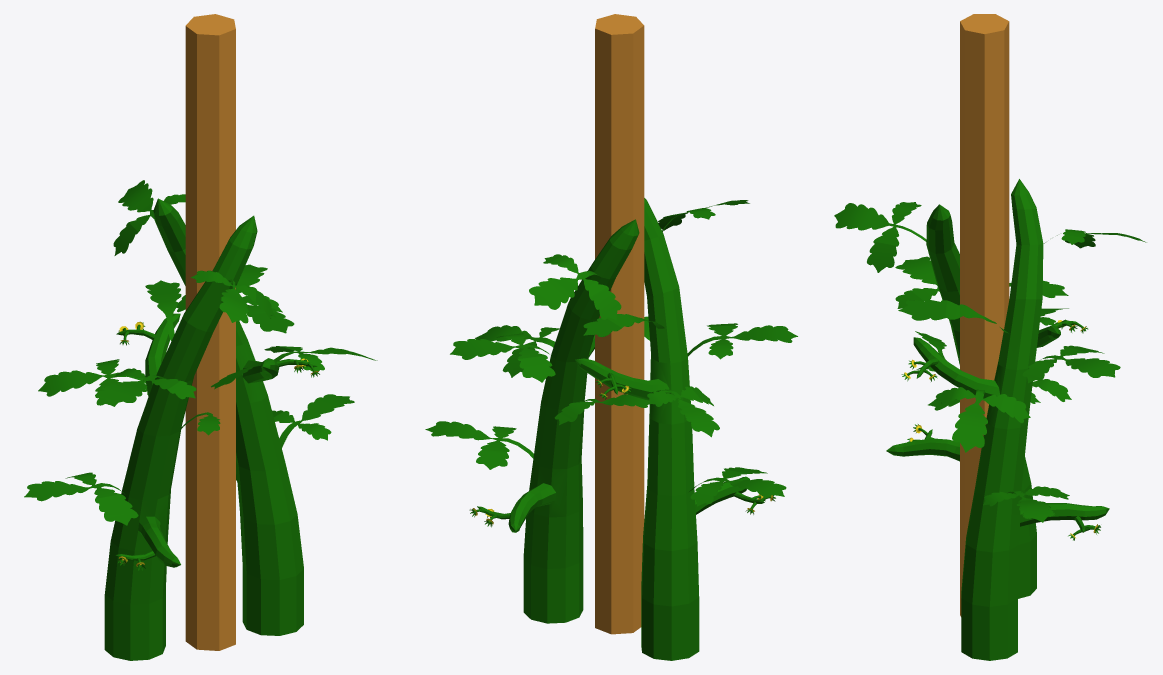
File: Teen_T.fbx
3 views of the same model, side by side, from view 1: azimuth 30°, elevation 25°; view 2: azimuth 150°, elevation 25°; view 3: azimuth 270°, elevation 25° (orthographic). The views are drawn at different scales.
Visible parts, largest first — view 1: Teen_Tomatos; view 2: Teen_Tomatos; view 3: Teen_Tomatos.
Part boxes in pixels (box(x1,y1,x2,y2)): Teen_Tomatos: box(24, 14, 377, 660); Teen_Tomatos: box(425, 14, 797, 660); Teen_Tomatos: box(834, 14, 1146, 660).
Size of the model in its own units: 71.88 by 119 by 58.04.
Materials: 1 (1 with a texture image).
